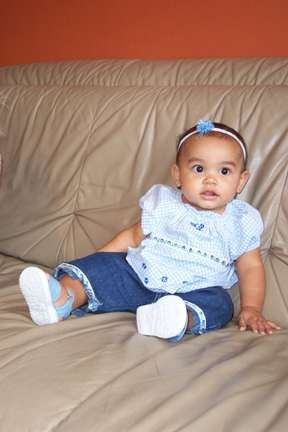head: (172, 127, 250, 210)
person: (16, 120, 286, 346)
